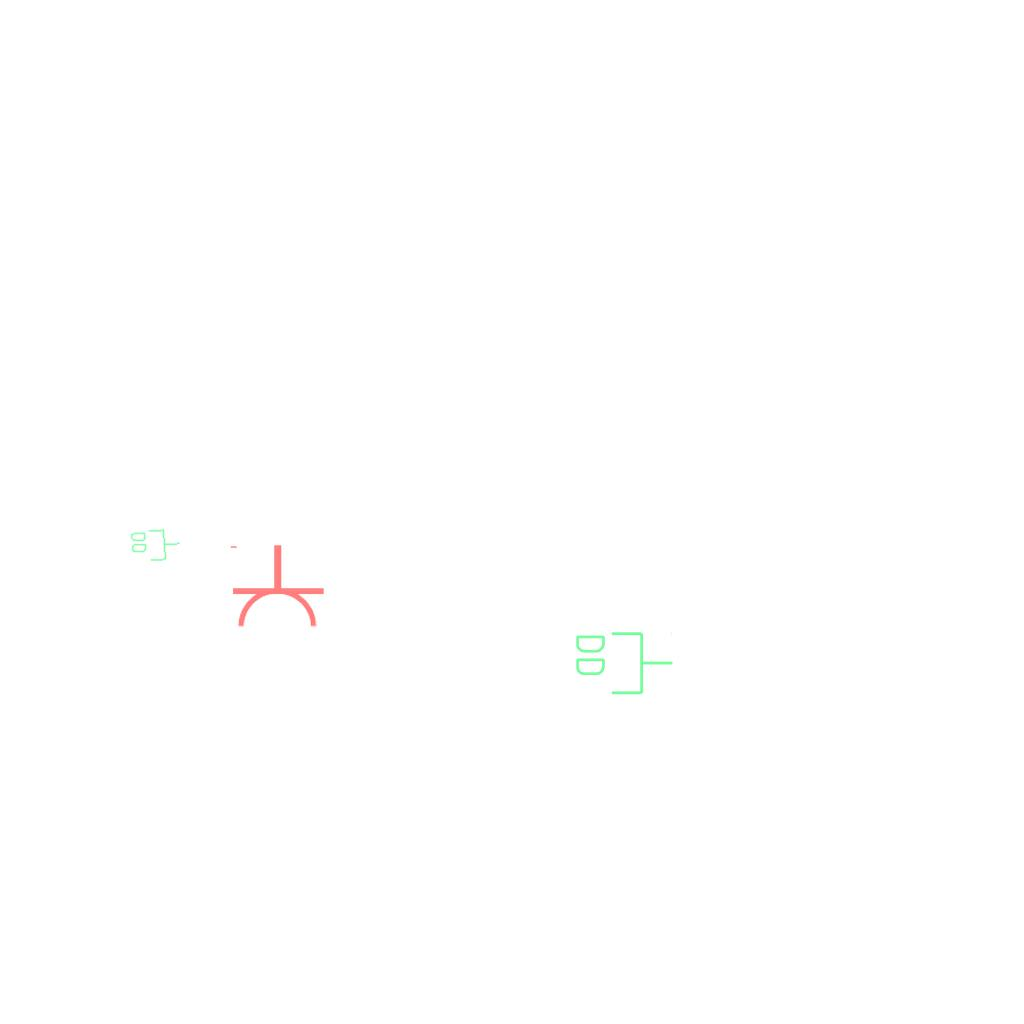Datenanschluss_zweifach: (572, 628, 675, 697), (128, 526, 183, 564)
Schukosteckdose_einfach: (226, 543, 326, 630)
